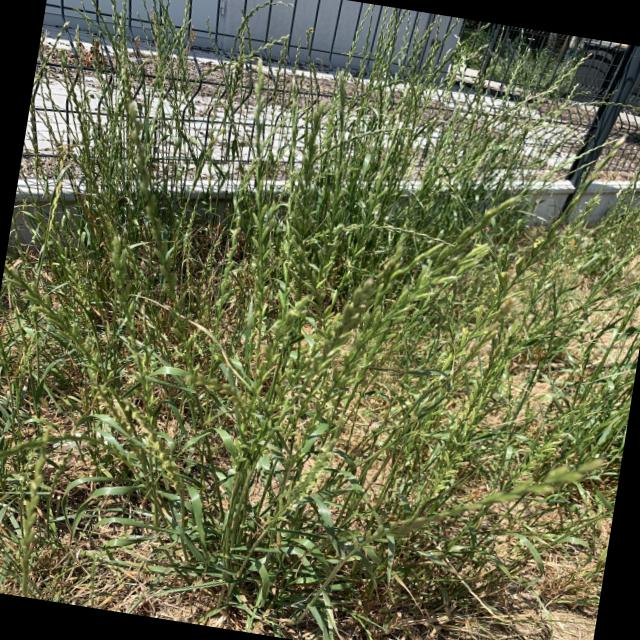Lolium: (145, 95, 640, 640), (0, 0, 398, 580), (283, 208, 456, 312), (304, 112, 412, 192), (538, 91, 640, 138), (230, 0, 293, 59), (544, 46, 590, 104), (498, 42, 531, 120)
